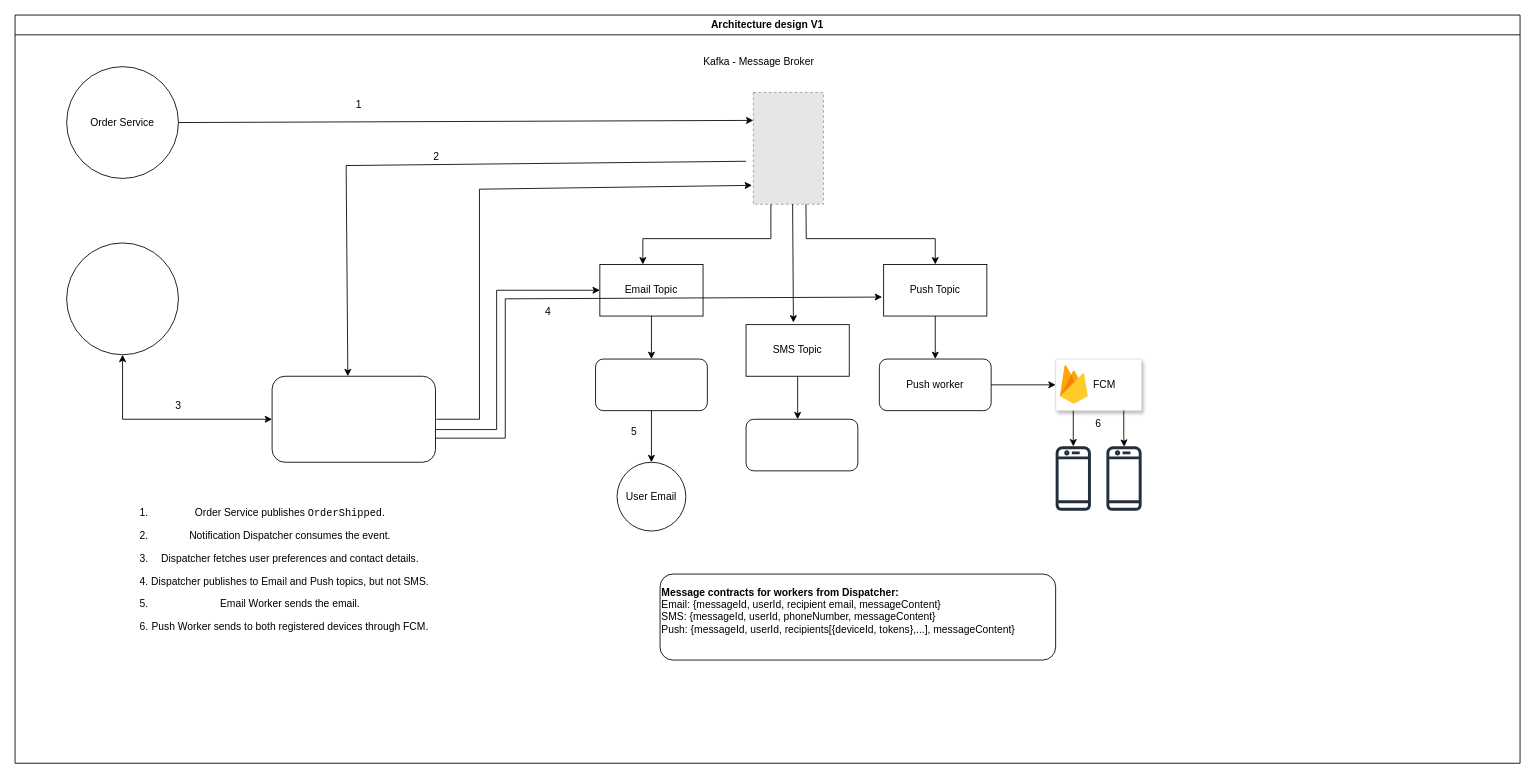
Image size: 1535x778. Some labels were removed from this diagram. Grey dashed boxes stand in for pictures. Each missing label, with the centre of its shape:
"Email Worker" goes at point (651, 384).
"Notification Dispatcher" goes at point (353, 418).
"SMS worker" goes at point (801, 444).
"User Service" goes at point (122, 298).
